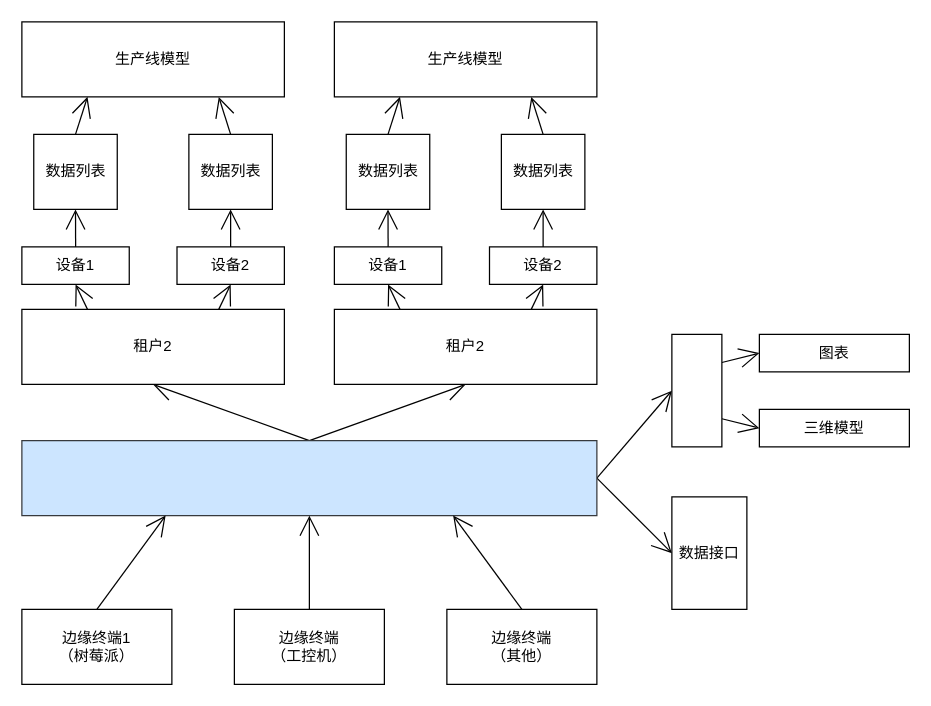
Some shapes in this 931 by 706 pixel diagram are drawn without their labels. The centre of each missing label's shape, as x and y in pixels:
LOT平台: point (309, 477)
可视化方案: point (696, 390)
